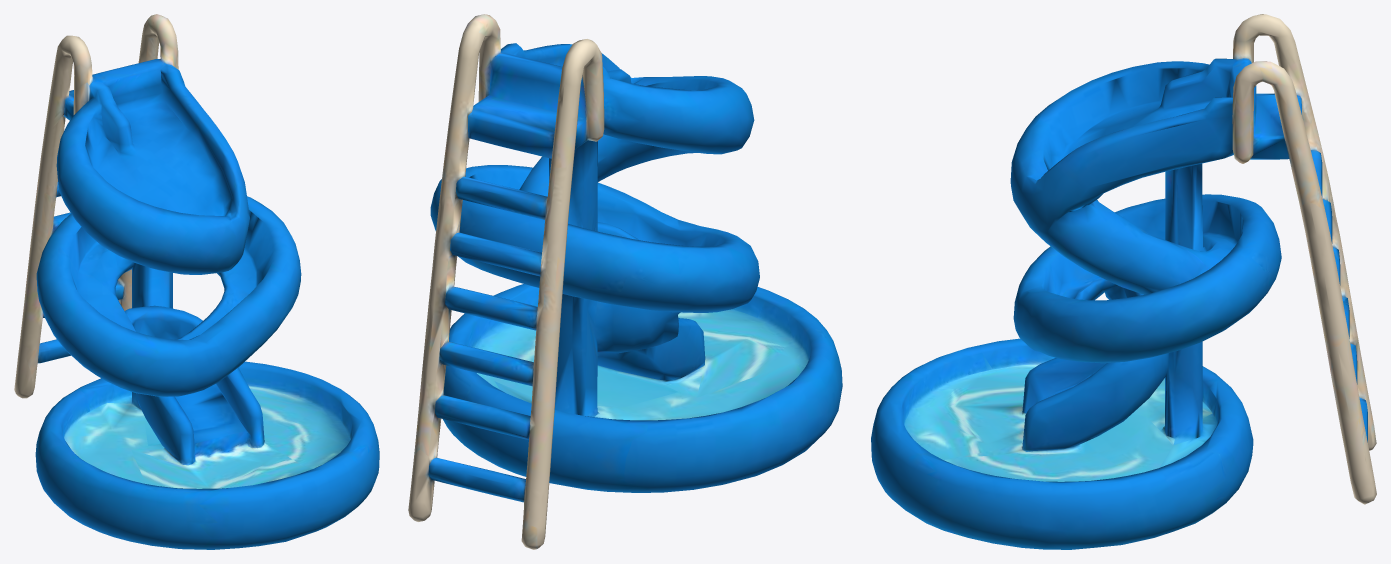
File: waterslide.glb
3 renders of one model, left to right at view 1: azimuth 30°, elevation 25°; view 2: azimuth 150°, elevation 25°; view 3: azimuth 270°, elevation 25°, orthographic. The views are drawn at different scales.
Parts seen in each view (by area): view 1: model; view 2: model; view 3: model.
Boxes of the visible parts, box(x1,y1,x2,y2) form: model: box(14, 14, 379, 549); model: box(408, 14, 842, 549); model: box(871, 14, 1376, 549).
Bounding box in the file's own units: 1.45 × 1.82 × 1.9.
Materials: 1 (1 with a texture image).
